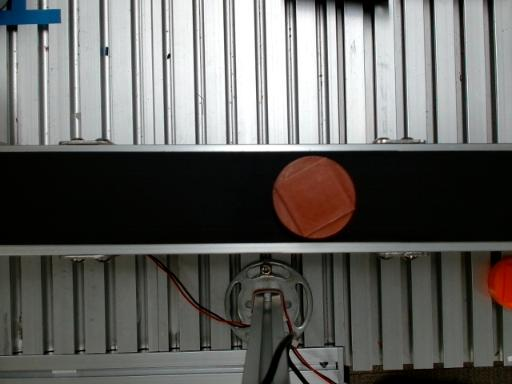Brown_Waper: (273, 157, 355, 238)
Square: (273, 158, 356, 239)
